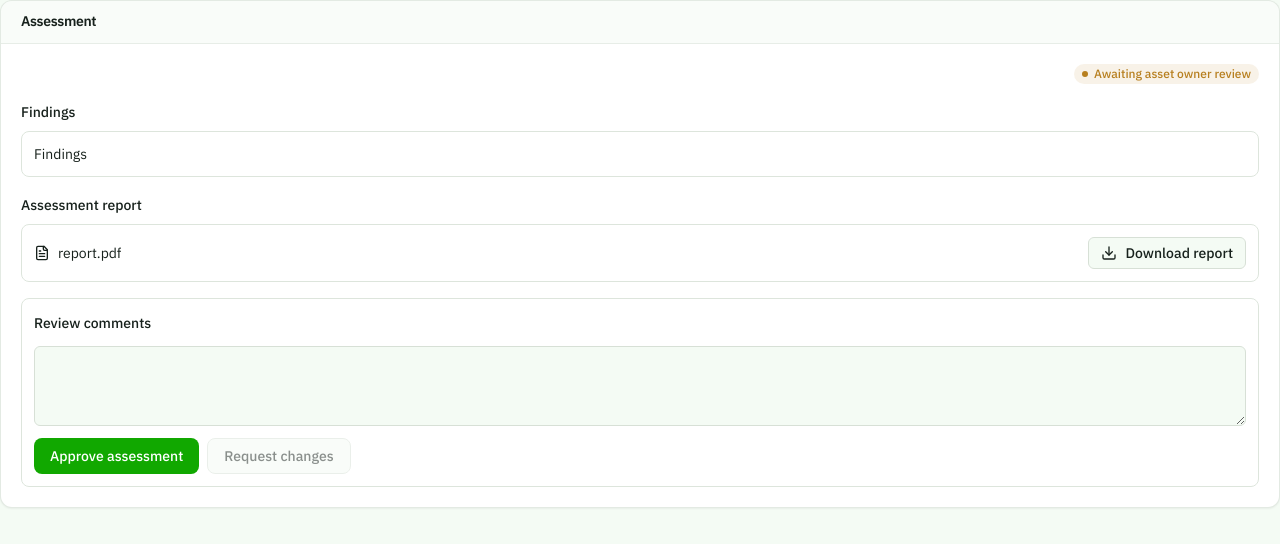
Test: Farm Assessment workflow › requires comments for changes and shows the owner's review history
Expected: the button "Request changes" is disabled, [207, 438, 351, 474]
Type "Add soil analysis" into the text box labelled "Review comments" at {"x": 640, "y": 386}, box [34, 346, 1246, 426]
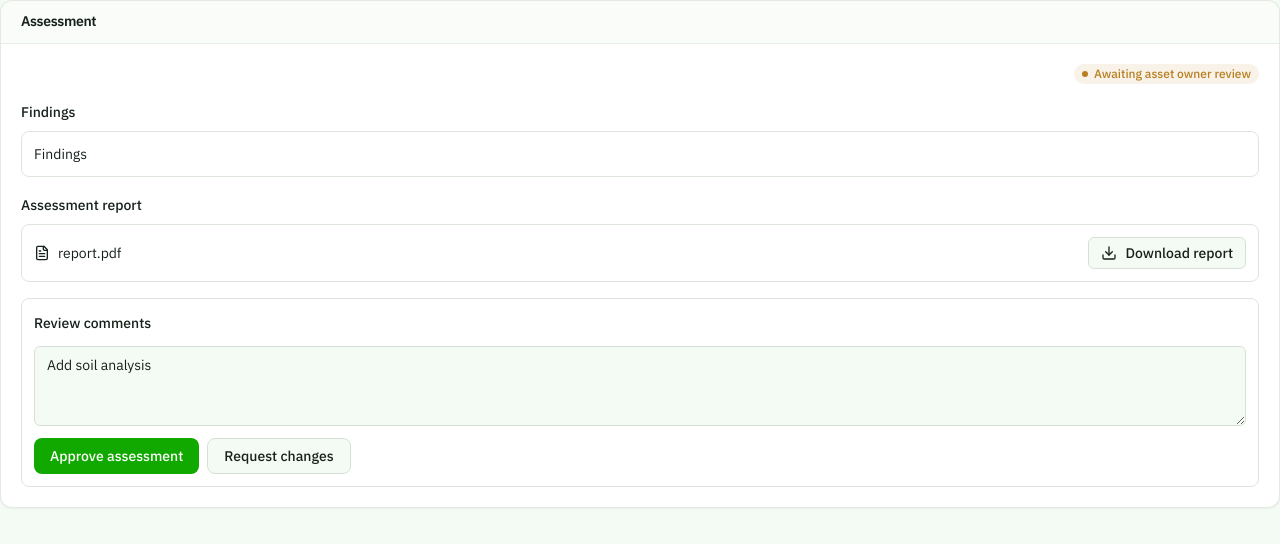
Click the button "Request changes" at {"x": 279, "y": 456}, box [207, 438, 351, 474]
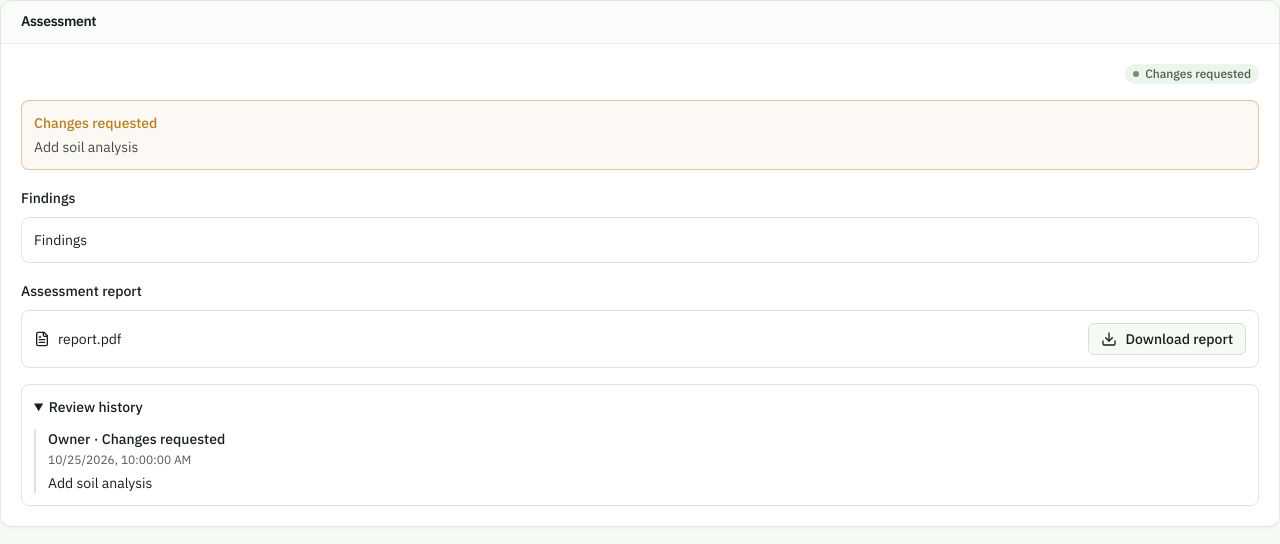
Result: the heading "Review history" is shown at [49, 398, 143, 416]
Result: the 1st text "Add soil analysis" is shown at [34, 138, 138, 156]
